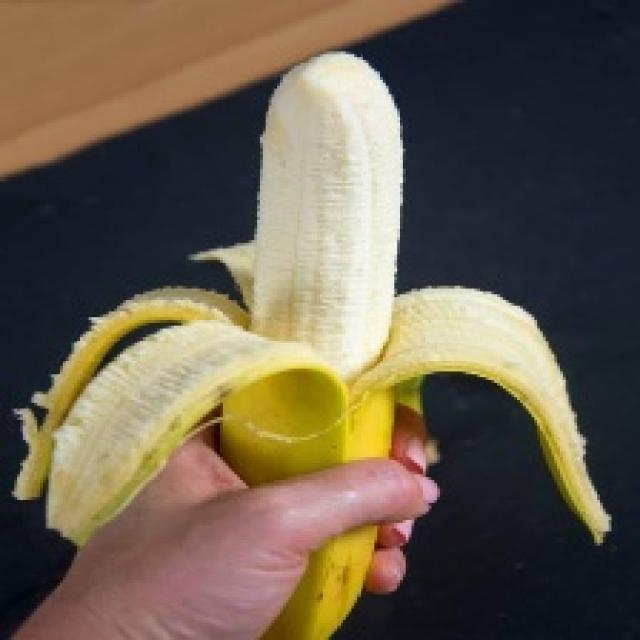Banana: (9, 49, 612, 637)
